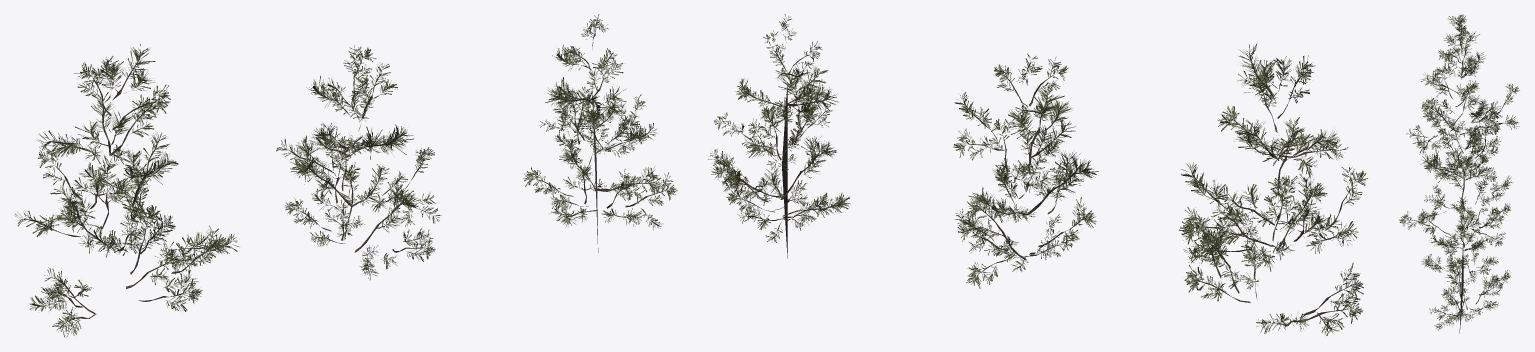
File: pine_sapling_small.glb
The picture shows the model from 3 angles, left to right: view 1: azimuth 30°, elevation 25°; view 2: azimuth 150°, elevation 25°; view 3: azimuth 270°, elevation 25°; orthographic projection. The views are drawn at different scales.
Visible parts, largest first — view 1: pine_sapling_small_a, pine_sapling_small_b, pine_sapling_small_c; view 2: pine_sapling_small_a, pine_sapling_small_b, pine_sapling_small_c; view 3: pine_sapling_small_a, pine_sapling_small_b, pine_sapling_small_c.
Part boxes in pixels (<box>): pine_sapling_small_a: <box>14,44,239,337</box>; pine_sapling_small_b: <box>276,45,441,280</box>; pine_sapling_small_c: <box>523,14,677,252</box>; pine_sapling_small_a: <box>1178,43,1367,335</box>; pine_sapling_small_b: <box>953,53,1098,288</box>; pine_sapling_small_c: <box>708,14,850,258</box>; pine_sapling_small_a: <box>1406,14,1519,180</box>; pine_sapling_small_b: <box>1399,121,1512,246</box>; pine_sapling_small_c: <box>1421,199,1510,333</box>.
Bounding box in the file's own units: 2.64 × 1.28 × 0.7679.
Materials: 2 (2 with a texture image).
